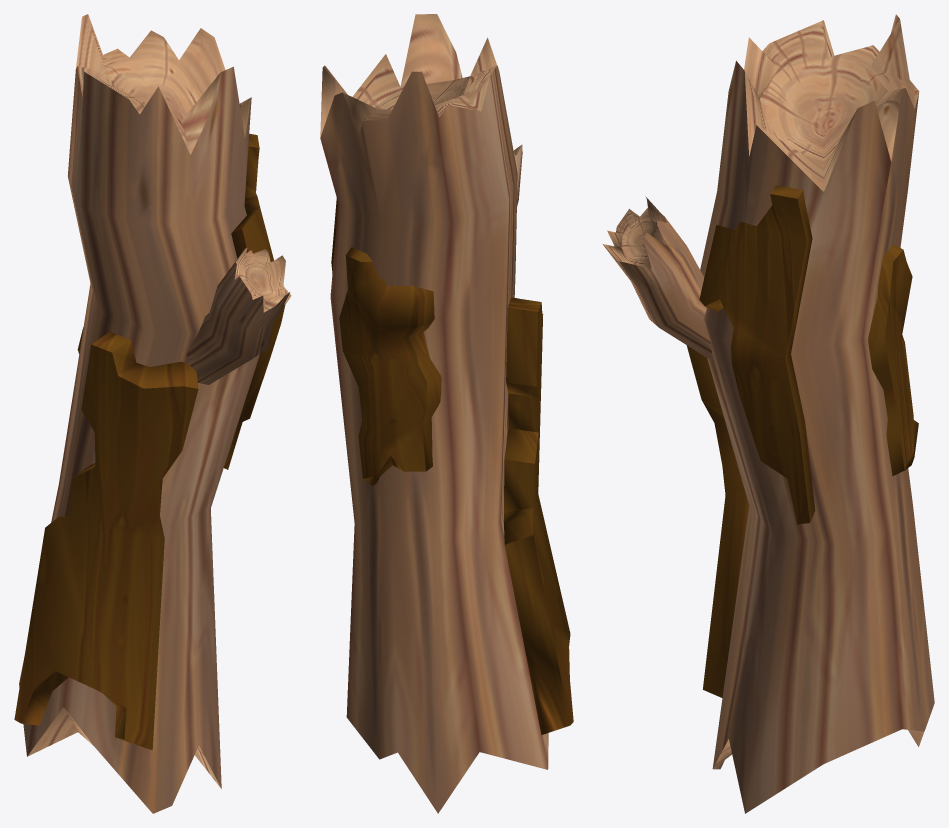
Rendered from p_mesh_hvs_leafy_log01.fbx.
The picture shows the model from 3 angles, left to right: view 1: azimuth 30°, elevation 25°; view 2: azimuth 150°, elevation 25°; view 3: azimuth 270°, elevation 25°; orthographic projection. The views are drawn at different scales.
Visible parts, largest first — view 1: p_mesh_leafy_log1; view 2: p_mesh_leafy_log1; view 3: p_mesh_leafy_log1.
Part boxes in pixels (left/top/right/bottom): p_mesh_leafy_log1: left=14, top=14, right=291, bottom=813; p_mesh_leafy_log1: left=320, top=14, right=573, bottom=813; p_mesh_leafy_log1: left=602, top=14, right=934, bottom=813.
Size of the model in its own units: 2.7 by 7.61 by 2.99.
1 material, 1 textured.
